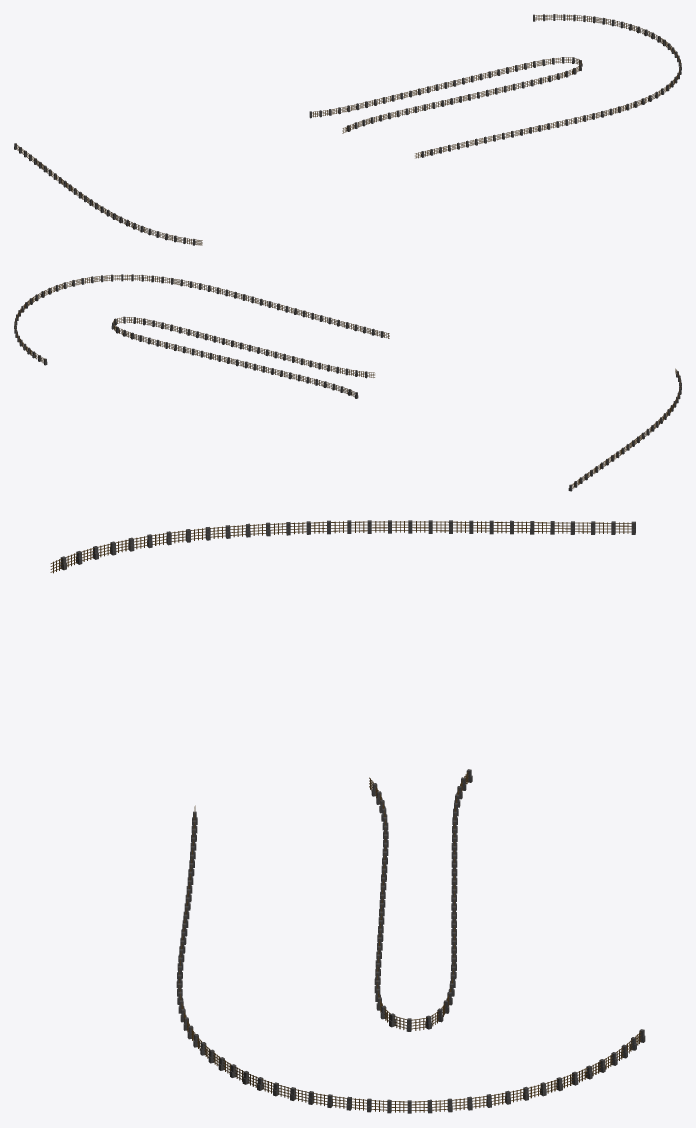
File: Allpagarkayu.fbx
3 views of the same model, one above another, from view 1: azimuth 30°, elevation 25°; view 2: azimuth 150°, elevation 25°; view 3: azimuth 270°, elevation 25° (orthographic). The views are drawn at different scales.
Parts seen in each view (by area): view 1: Pagar1.003, Pagar1.002, Pagar1; view 2: Pagar1.003, Pagar1.002, Pagar1; view 3: Pagar1.002, Pagar1, Pagar1.003.
Part boxes in pixels (bbox=[...]): Pagar1.003: bbox=[309, 57, 582, 133]; Pagar1.002: bbox=[415, 14, 681, 158]; Pagar1: bbox=[14, 143, 202, 245]; Pagar1.003: bbox=[111, 316, 374, 398]; Pagar1.002: bbox=[14, 274, 389, 365]; Pagar1: bbox=[568, 368, 681, 491]; Pagar1.002: bbox=[176, 805, 645, 1113]; Pagar1: bbox=[50, 520, 635, 573]; Pagar1.003: bbox=[369, 769, 472, 1031].
Size of the model in its own units: 19852 by 184 by 8570.
1 material, 1 textured.
